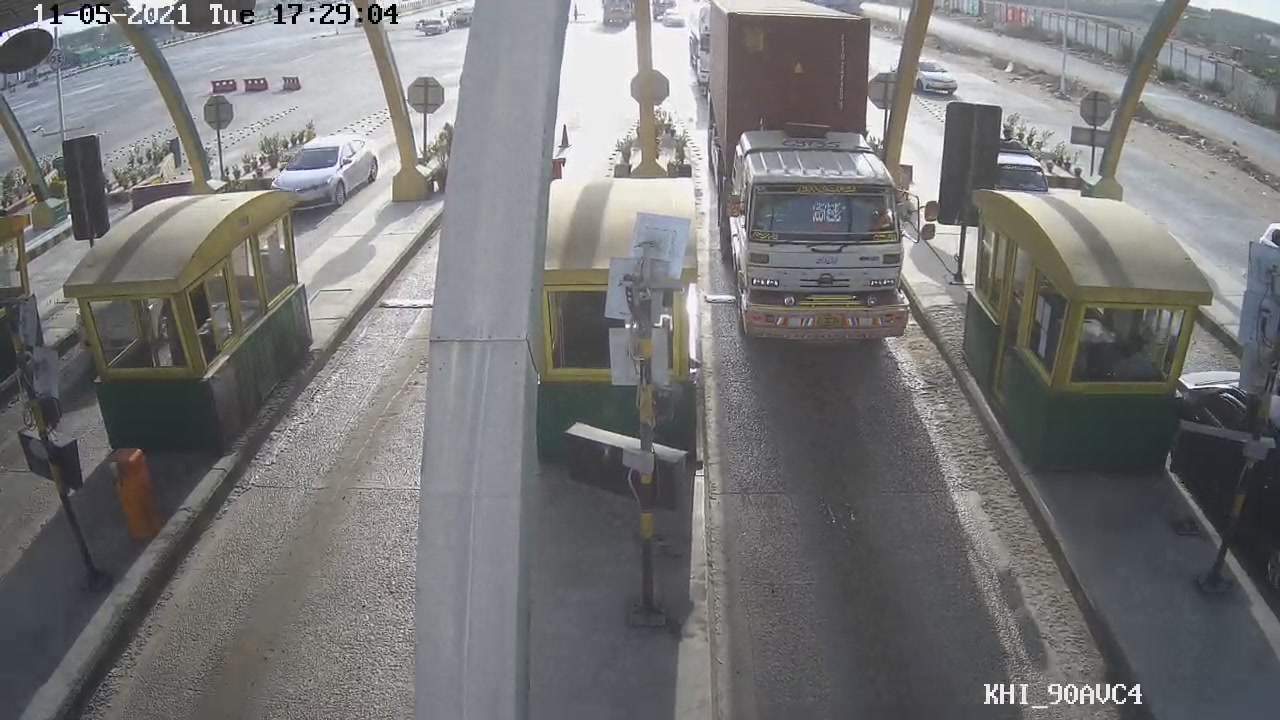F6: (700, 32, 942, 348)
